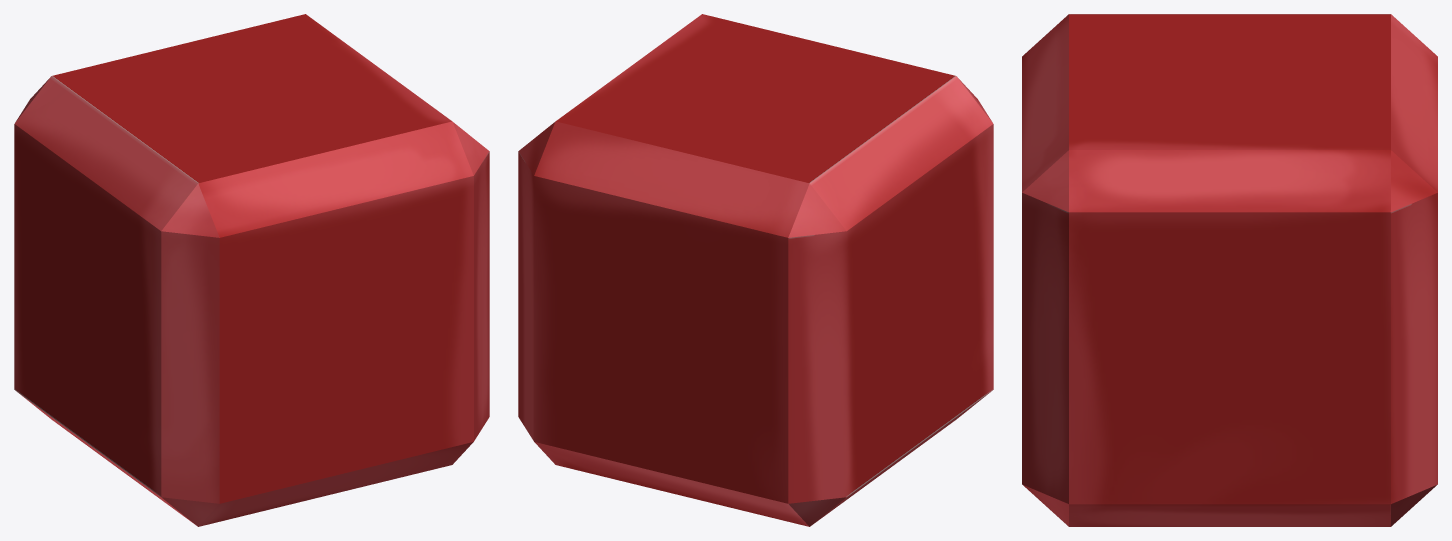
File: Poisoning.fbx
The picture shows the model from 3 angles, left to right: view 1: azimuth 30°, elevation 25°; view 2: azimuth 150°, elevation 25°; view 3: azimuth 270°, elevation 25°; orthographic projection. The views are drawn at different scales.
Visible parts, largest first — view 1: drop4; view 2: drop4; view 3: drop4.
Boxes of the visible parts, left/top/right/bottom form: drop4: left=14, top=14, right=489, bottom=526; drop4: left=518, top=14, right=993, bottom=526; drop4: left=1022, top=14, right=1437, bottom=526.
Bounding box in the file's own units: 28.79 × 28.79 × 28.79.
1 material, 1 textured.
